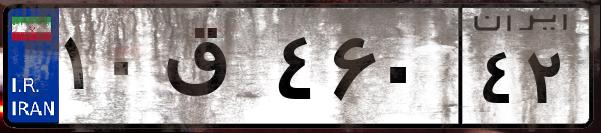0: (385, 28, 445, 110), (110, 28, 158, 98)
1: (57, 26, 110, 100)
2: (525, 38, 570, 115)
4: (270, 28, 330, 110), (475, 38, 525, 113)
6: (330, 28, 385, 110)
ق: (158, 20, 270, 120)
